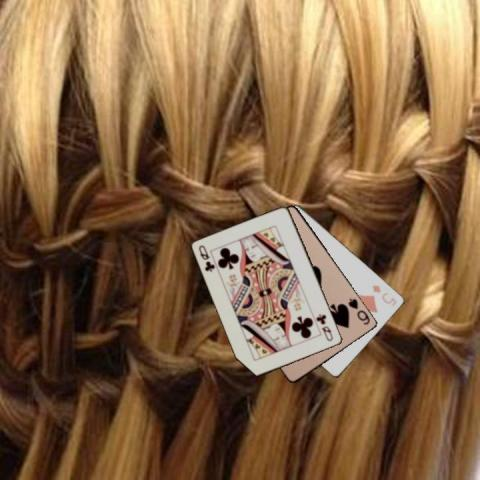5d: (369, 282, 399, 308)
6s: (346, 295, 372, 326)
Qc: (314, 310, 335, 342), (196, 242, 217, 273)
